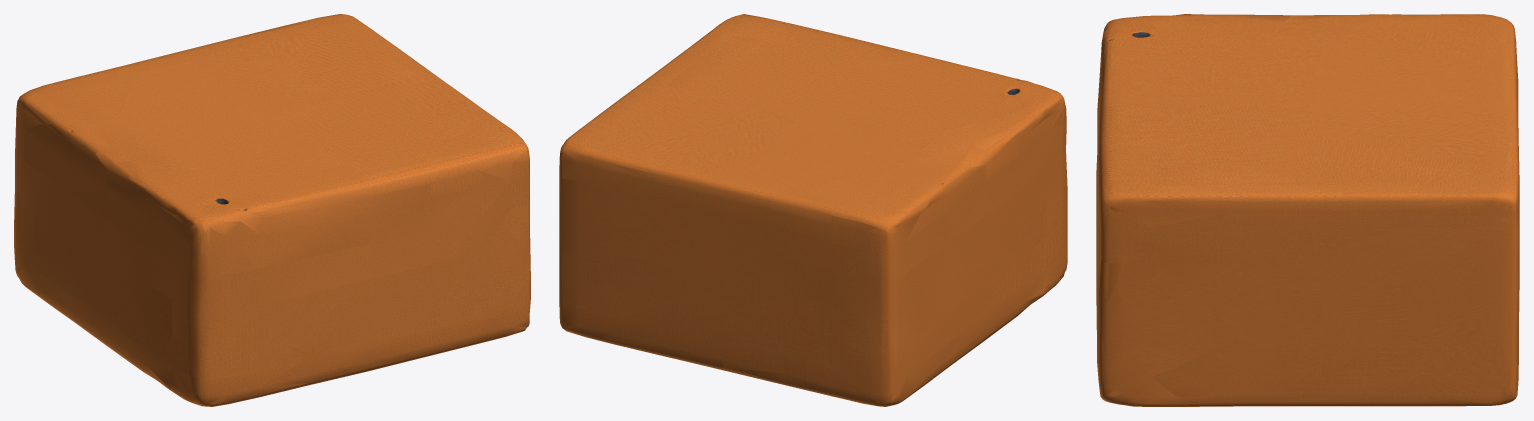
File: block_orange.glb
The picture shows the model from 3 angles, left to right: view 1: azimuth 30°, elevation 25°; view 2: azimuth 150°, elevation 25°; view 3: azimuth 270°, elevation 25°; orthographic projection. The views are drawn at different scales.
Parts seen in each view (by area): view 1: orange_block__export_tmp; view 2: orange_block__export_tmp; view 3: orange_block__export_tmp.
Boxes of the visible parts, x1,y1,x2,y2 form: orange_block__export_tmp: [14, 14, 530, 406]; orange_block__export_tmp: [559, 14, 1067, 406]; orange_block__export_tmp: [1096, 14, 1519, 406].
Bounding box in the file's own units: 2.01 × 1.08 × 1.94.
1 material, 1 textured.
